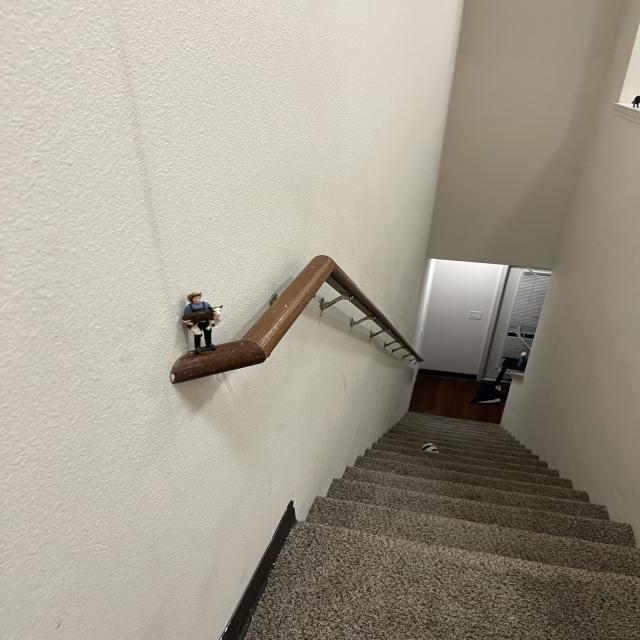cow: (181, 304, 228, 335)
person: (180, 290, 212, 315)
